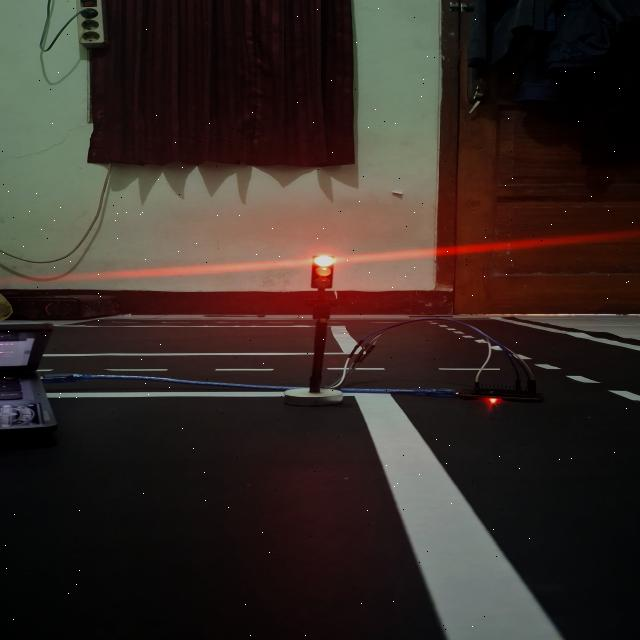Lampu Merah: (311, 255, 335, 288)
